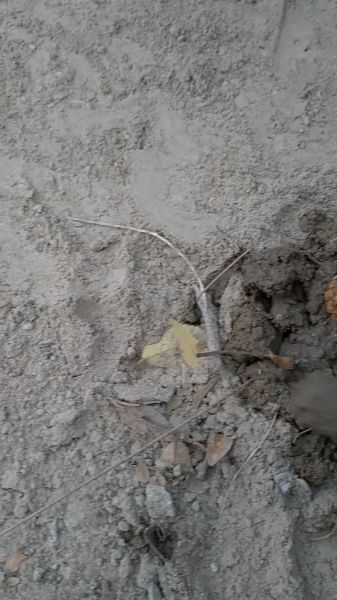eggs: (317, 269, 337, 320)
